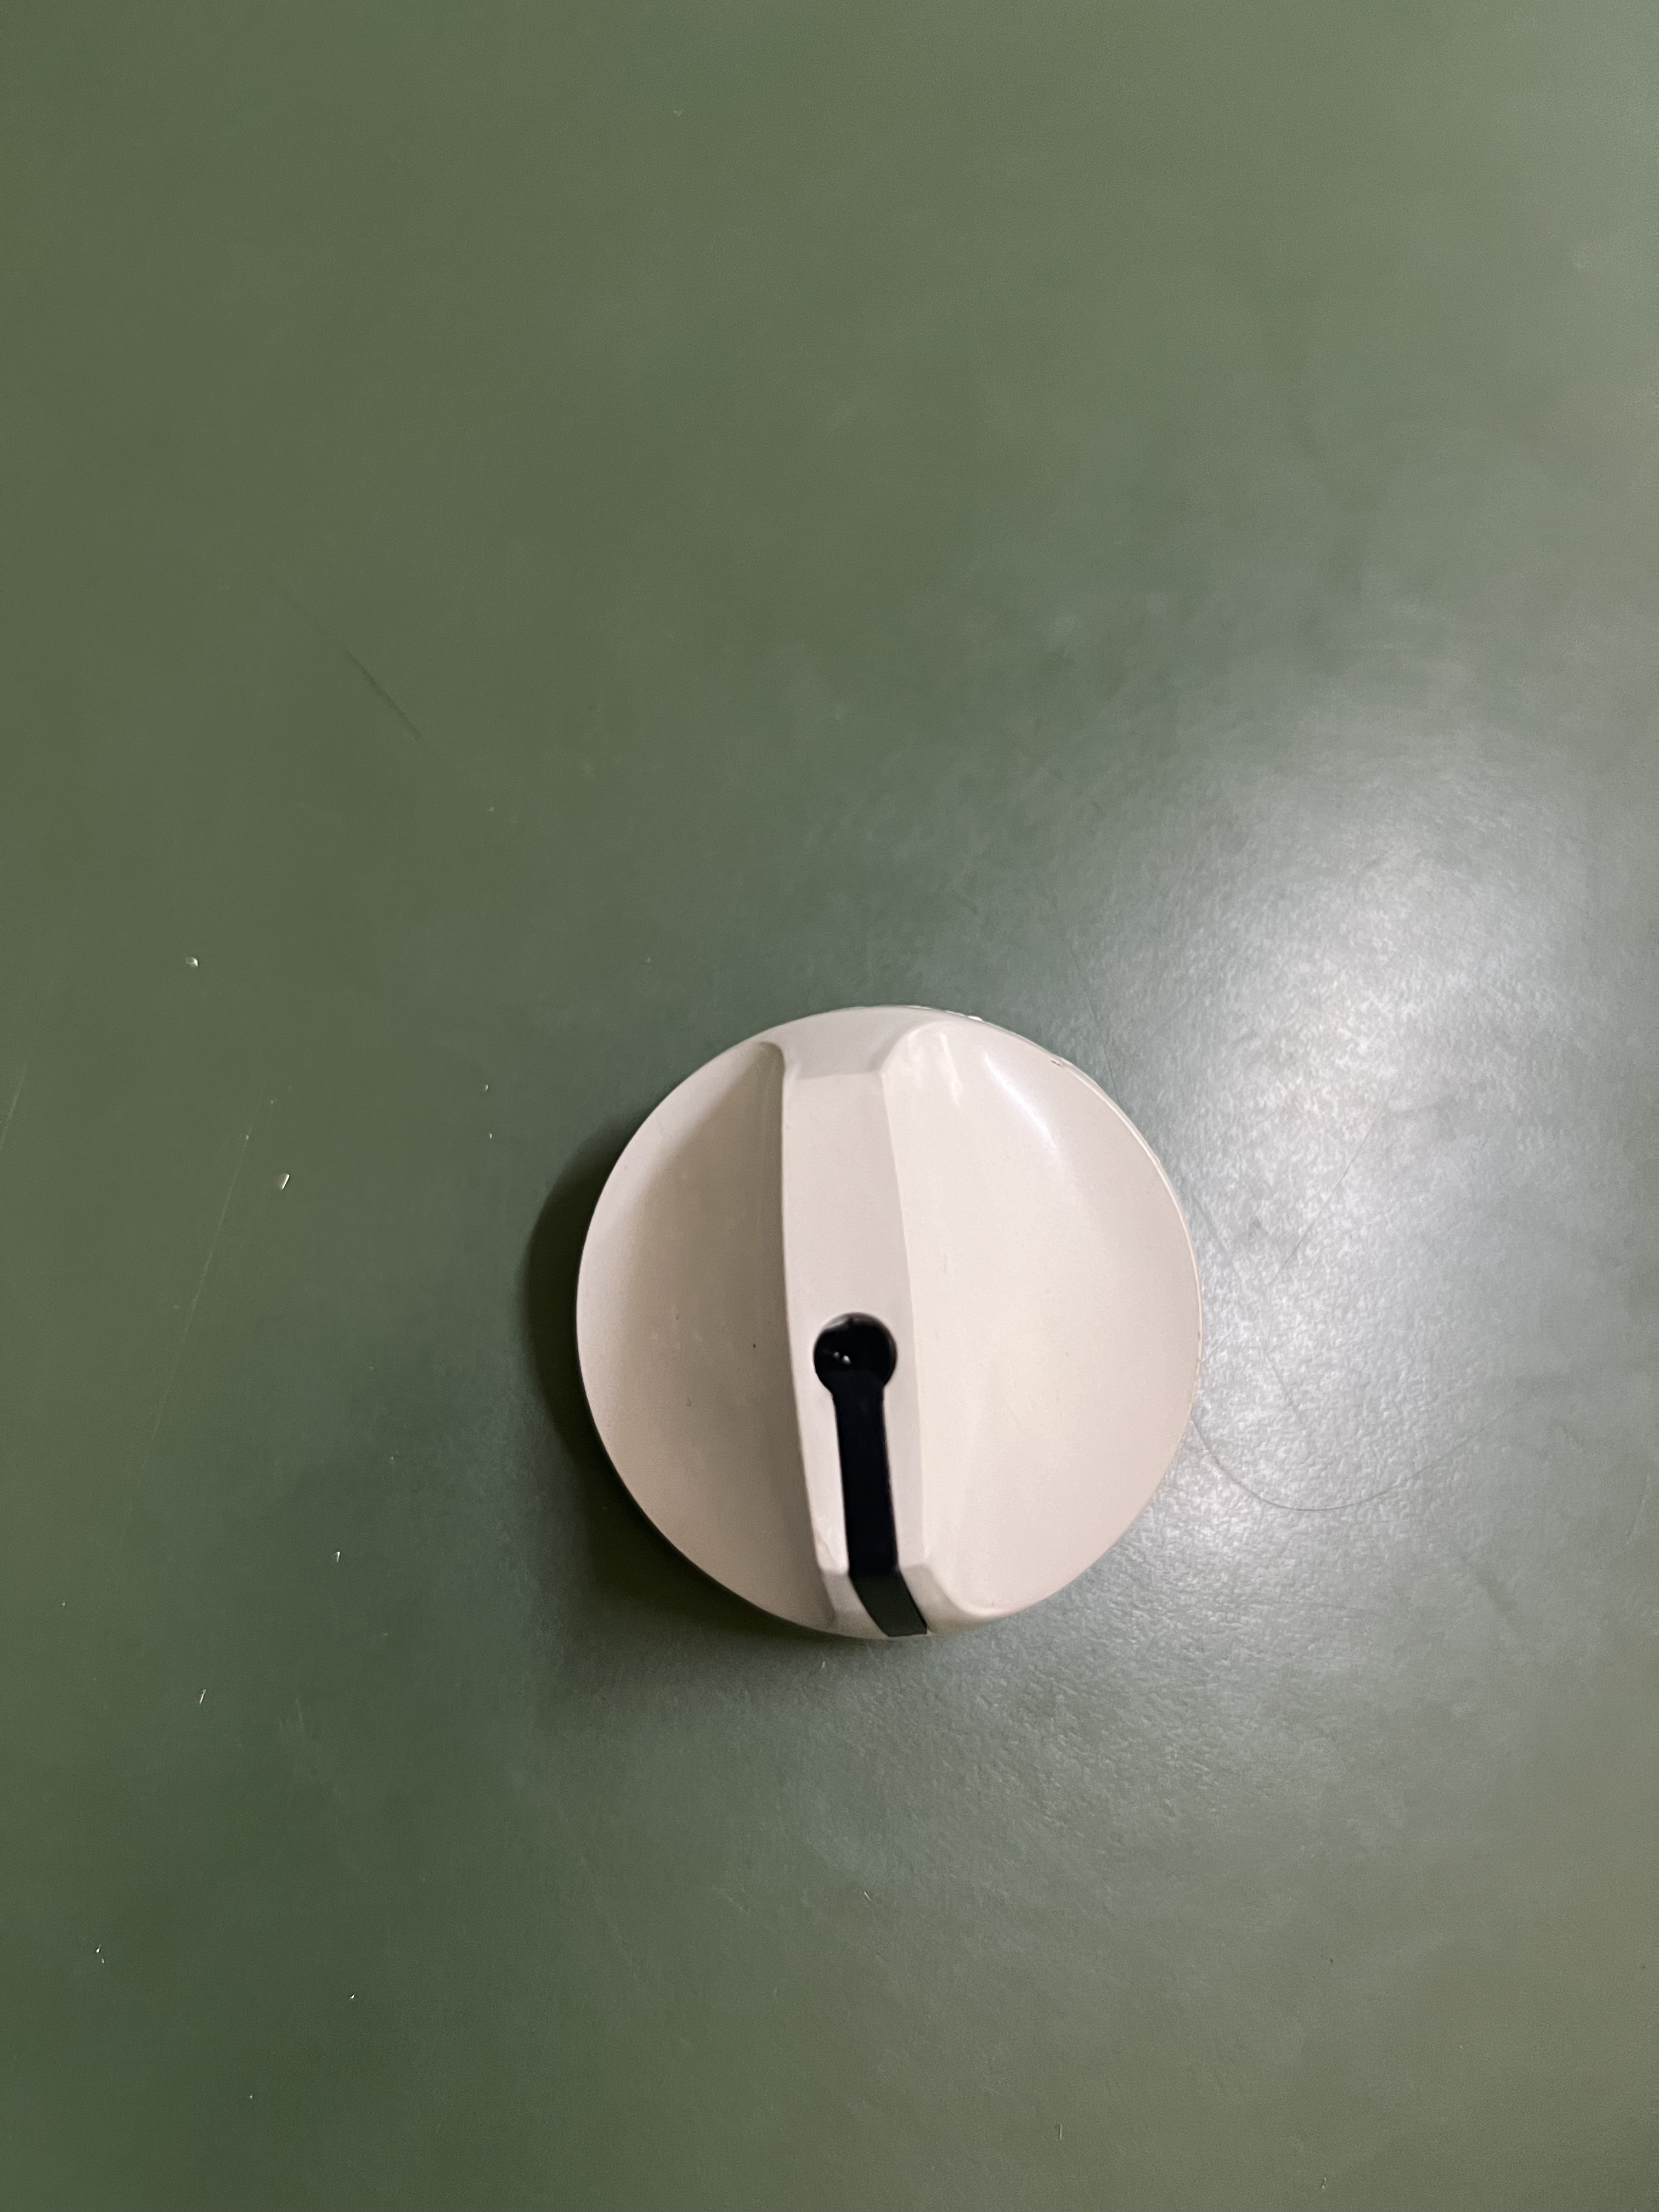regulator: (559, 965, 1236, 1679)
